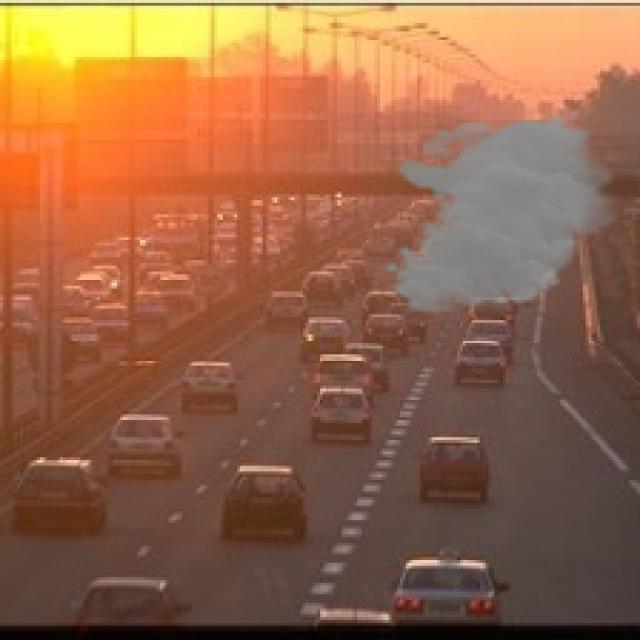Smoke: (383, 114, 626, 314)
